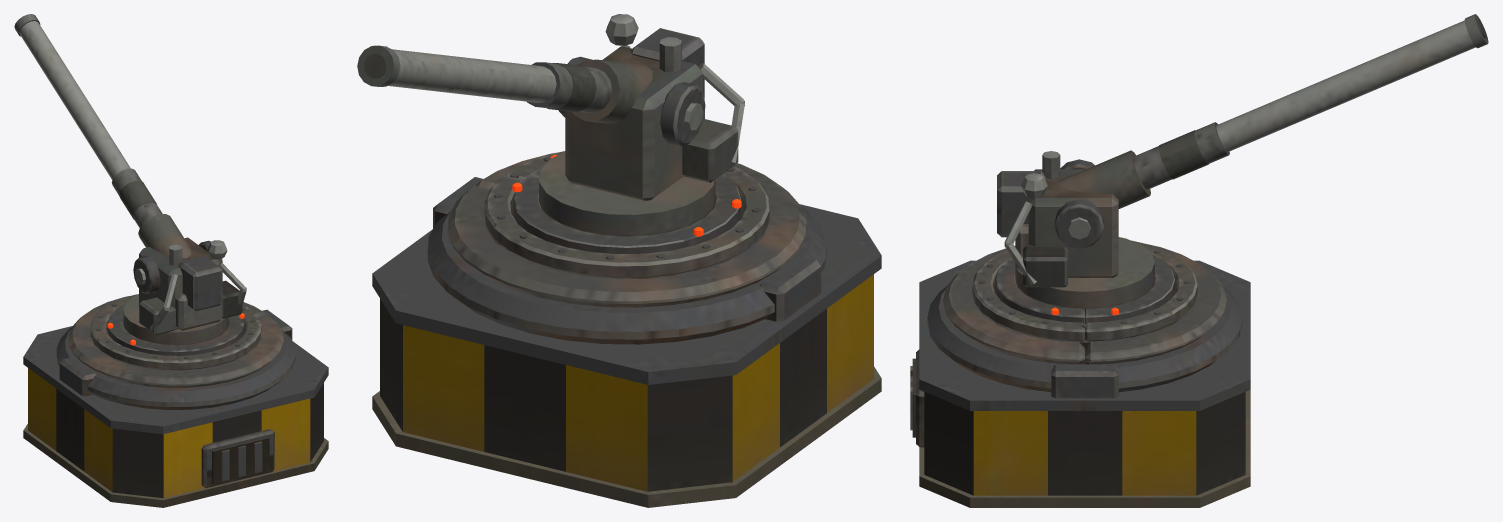
Rendered from artillery-turret.glb.
The picture shows the model from 3 angles, left to right: view 1: azimuth 30°, elevation 25°; view 2: azimuth 150°, elevation 25°; view 3: azimuth 270°, elevation 25°; orthographic projection. The views are drawn at different scales.
Visible parts, largest first — view 1: body, anim_turret_head; view 2: body, anim_turret_head; view 3: body, anim_turret_head.
Part boxes in pixels (<box>): body: <box>23,294,328,507</box>; anim_turret_head: <box>14,14,246,355</box>; body: <box>372,151,881,507</box>; anim_turret_head: <box>357,14,744,254</box>; body: <box>910,240,1250,507</box>; anim_turret_head: <box>995,14,1488,323</box>.
Bounding box in the file's own units: 2.94 × 4.14 × 5.13.
Materials: 2 (2 with a texture image).
